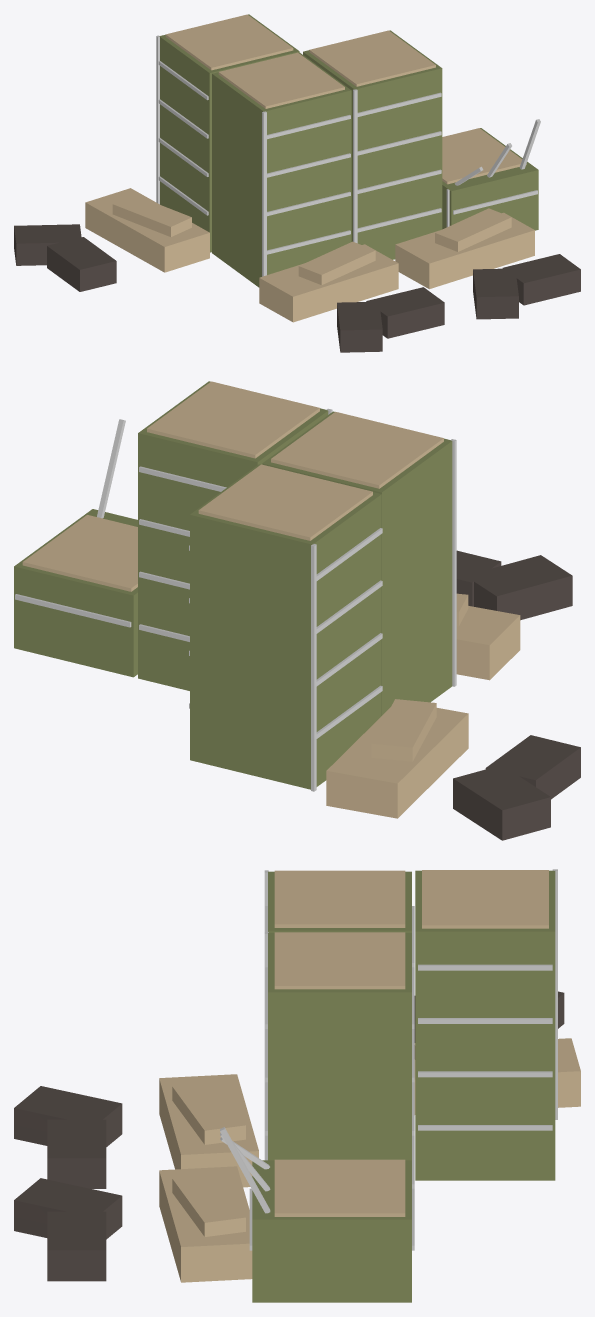
File: SM_HescoRemate_v2_Escalonado_e1_Danado_LOD0.fbx
The picture shows the model from 3 angles, top to bottom: view 1: azimuth 30°, elevation 25°; view 2: azimuth 150°, elevation 25°; view 3: azimuth 270°, elevation 25°; orthographic projection. The views are drawn at different scales.
Parts seen in each view (by area): view 1: SM_hesco_piezas_v29_LOD0; view 2: SM_hesco_piezas_v29_LOD0; view 3: SM_hesco_piezas_v29_LOD0.
Boxes of the visible parts, x1,y1,x2,y2 form: SM_hesco_piezas_v29_LOD0: (14, 14, 580, 352); SM_hesco_piezas_v29_LOD0: (14, 381, 580, 840); SM_hesco_piezas_v29_LOD0: (14, 869, 580, 1302).
Size of the model in its own units: 5.25 by 2.13 by 4.33.
